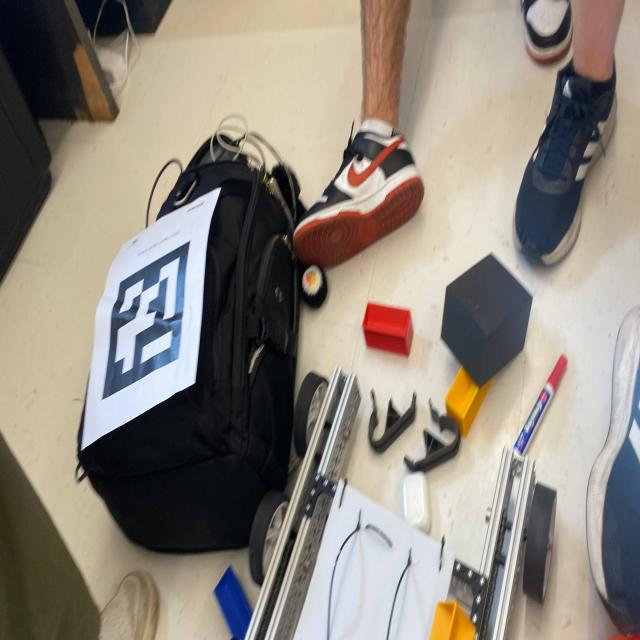blue-specimen: (213, 567, 252, 640)
red-specimen: (363, 302, 413, 357)
yellow-specimen: (445, 367, 494, 437), (430, 600, 475, 640)
